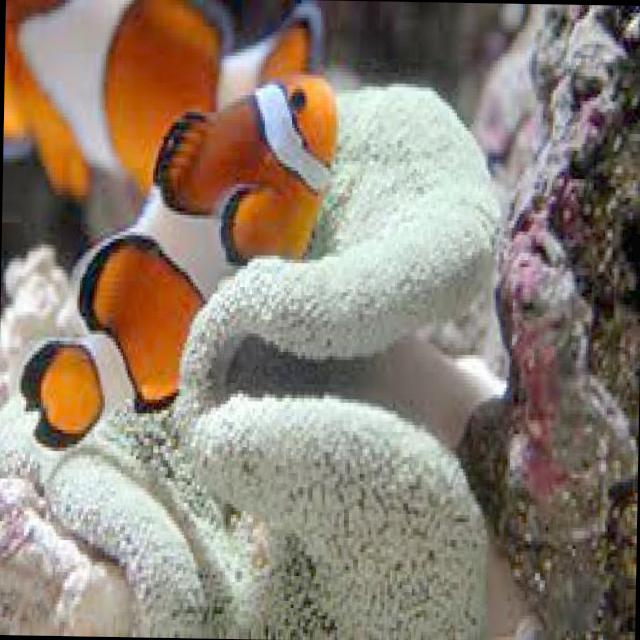ClownFish: (18, 70, 332, 456), (8, 0, 323, 195)
